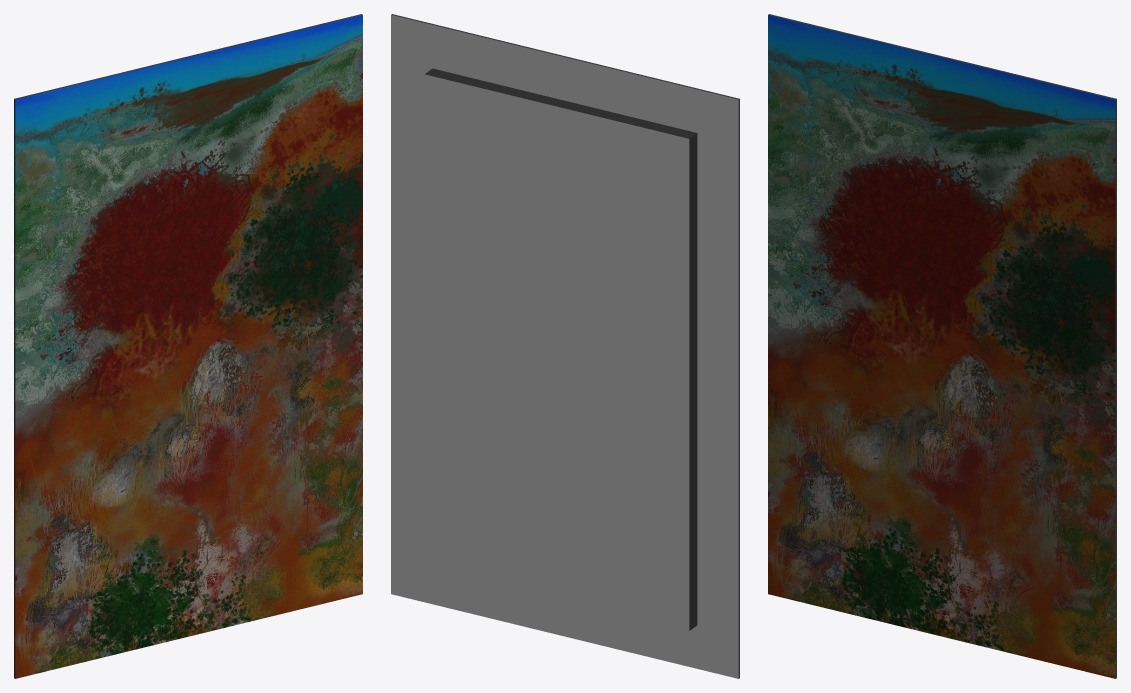
The model's file is os013_moyen_dibond.glb.
3 views of the same model, side by side, from view 1: azimuth 30°, elevation 25°; view 2: azimuth 150°, elevation 25°; view 3: azimuth 330°, elevation 25° (orthographic).
Visible parts, largest first — view 1: os013_moyen_dibond; view 2: os013_moyen_dibond; view 3: os013_moyen_dibond.
Boxes of the visible parts, left/top/right/bottom form: os013_moyen_dibond: left=14, top=14, right=362, bottom=678; os013_moyen_dibond: left=391, top=14, right=739, bottom=678; os013_moyen_dibond: left=768, top=14, right=1116, bottom=678.
Size of the model in its own units: 0.5024 by 0.8 by 0.023.
4 materials, 1 textured.
